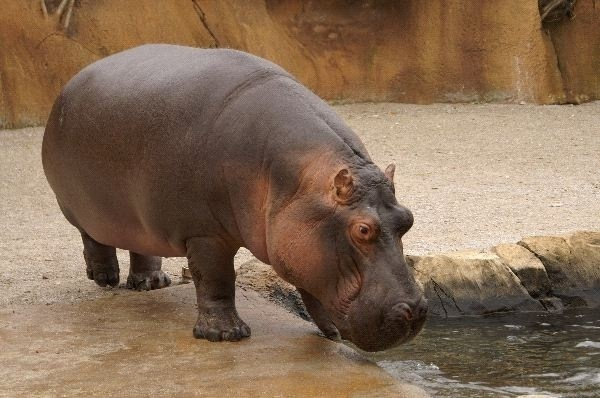hipopotamo: (23, 22, 446, 364)
